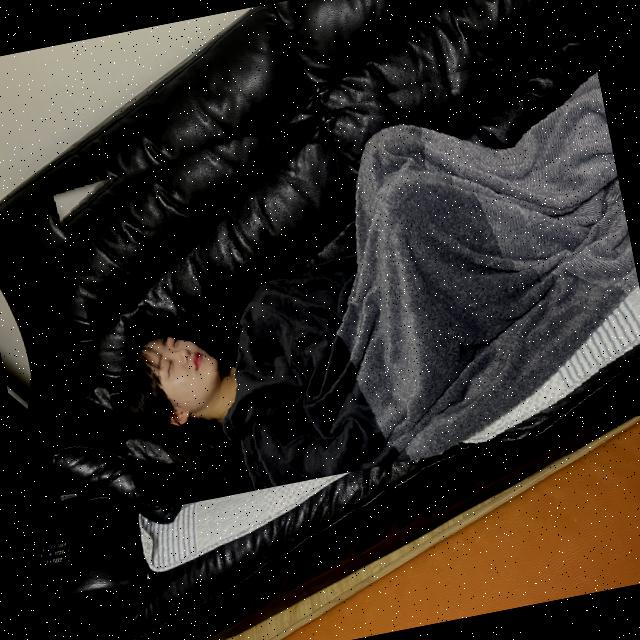people: (42, 32, 640, 517)
